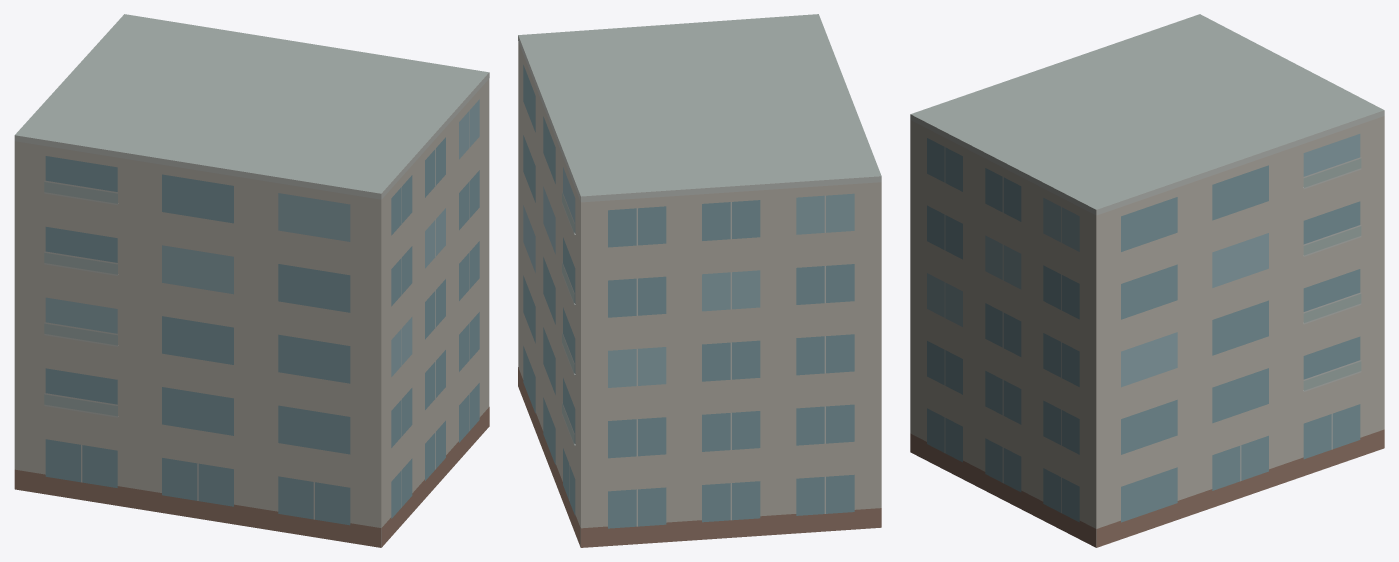
File: survey-upis-32966007.glb
3 views of the same model, side by side, from view 1: azimuth 30°, elevation 25°; view 2: azimuth 150°, elevation 25°; view 3: azimuth 270°, elevation 25° (orthographic). The views are drawn at different scales.
Parts seen in each view (by area): view 1: survey-upis-32966007.tmp; view 2: survey-upis-32966007.tmp; view 3: survey-upis-32966007.tmp.
Boxes of the visible parts, x1=… form: survey-upis-32966007.tmp: x1=14, y1=14, x2=489, y2=547; survey-upis-32966007.tmp: x1=518, y1=14, x2=881, y2=547; survey-upis-32966007.tmp: x1=910, y1=14, x2=1384, y2=547.
Bounding box in the file's own units: 17.95 × 14.44 × 18.37.
